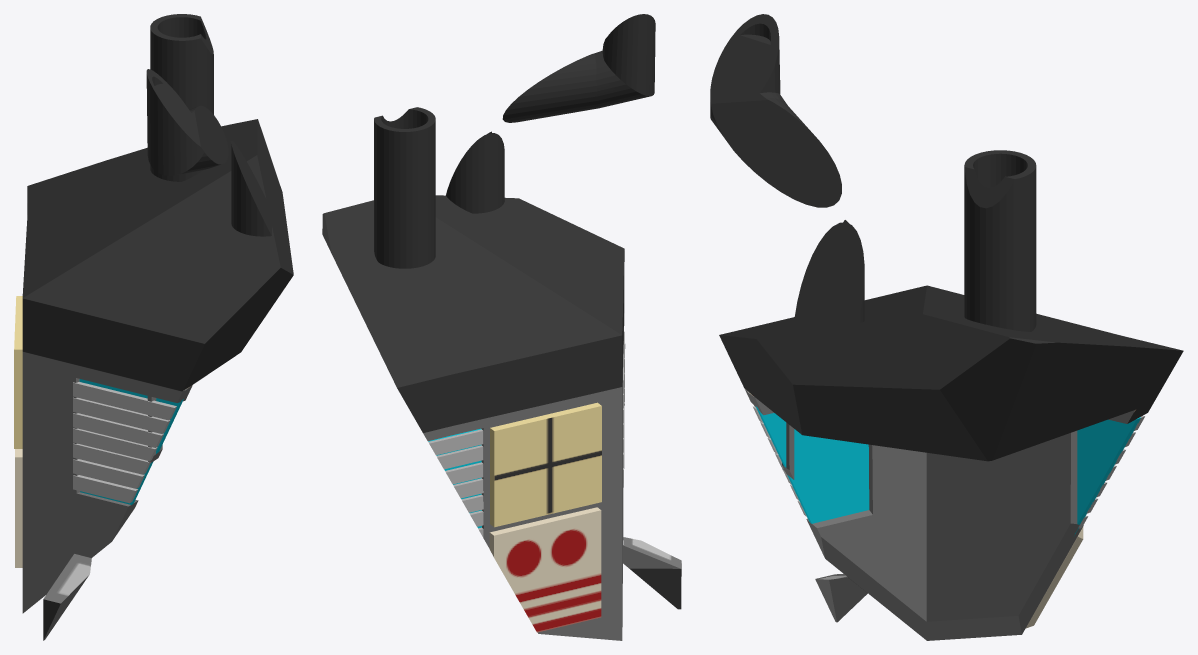
3 views of the same model, side by side, from view 1: azimuth 30°, elevation 25°; view 2: azimuth 150°, elevation 25°; view 3: azimuth 270°, elevation 25° (orthographic). The views are drawn at different scales.
Visible parts, largest first — view 1: Base_6; view 2: Base_6; view 3: Base_6.
Boxes of the visible parts, left/top/right/bottom form: Base_6: left=14, top=14, right=293, bottom=640; Base_6: left=322, top=14, right=681, bottom=640; Base_6: left=710, top=14, right=1183, bottom=640.
Size of the model in its own units: 904 by 1720 by 1126.
